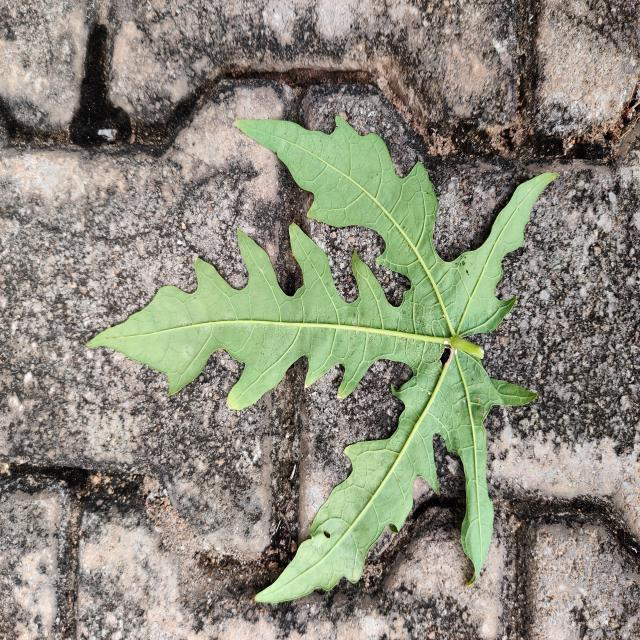papaya: (89, 117, 556, 603)
